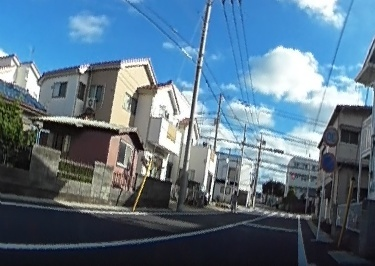person: (231, 190, 238, 210)
